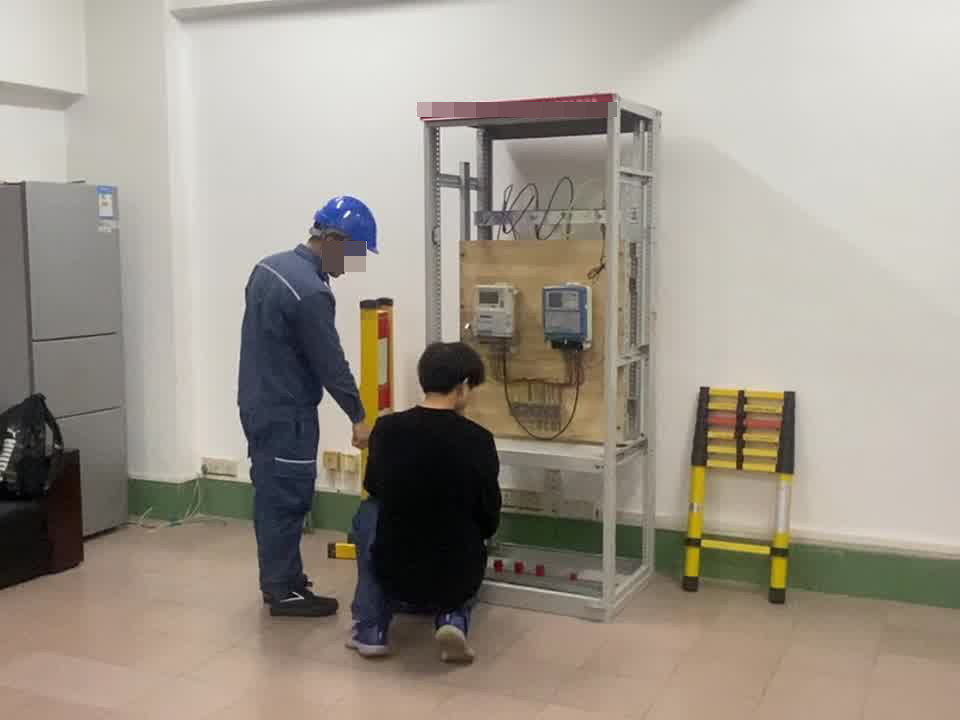downsuit: (248, 425, 318, 601)
halt: (310, 195, 377, 274)
hand: (351, 417, 371, 447)
inear: (318, 231, 346, 260)
noear: (449, 373, 480, 403)
person: (233, 193, 380, 620), (353, 342, 510, 666)
unhalt: (417, 342, 487, 409)
upcloth: (361, 410, 502, 623)
upsuit: (237, 250, 352, 418)
